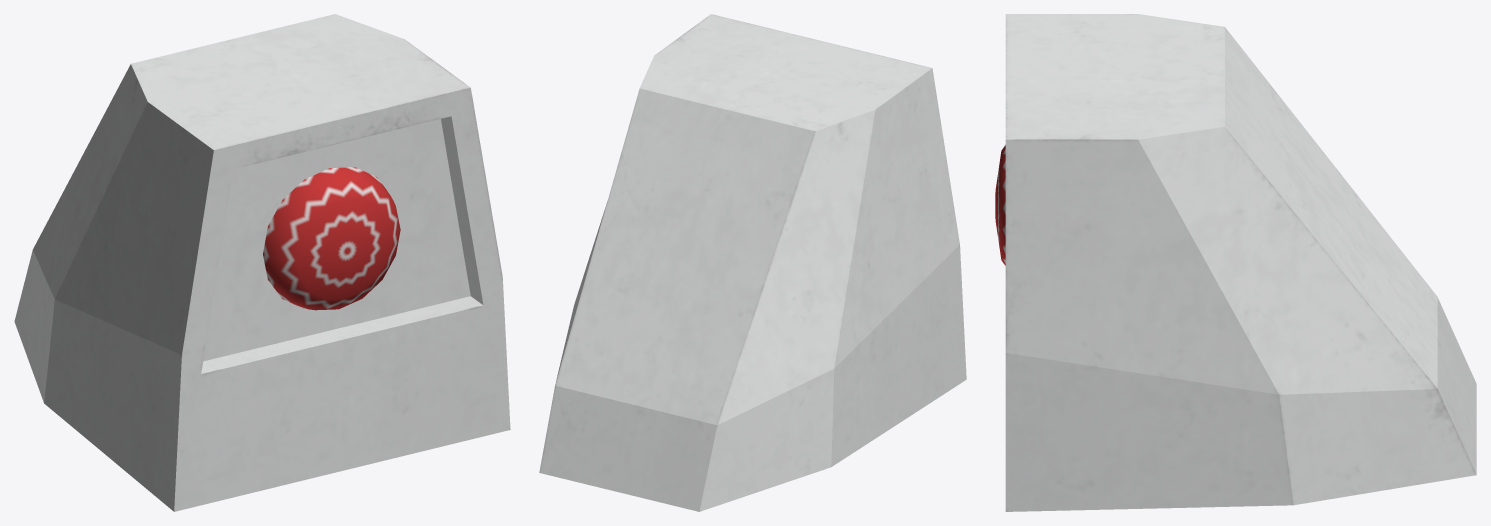
File: Laser.fbx
The picture shows the model from 3 angles, left to right: view 1: azimuth 30°, elevation 25°; view 2: azimuth 150°, elevation 25°; view 3: azimuth 270°, elevation 25°; orthographic projection. The views are drawn at different scales.
Parts seen in each view (by area): view 1: Laser_box, Laser; view 2: Laser_box; view 3: Laser_box, Laser.
Part boxes in pixels (box(x1,y1,x2,y2)): Laser_box: box(14, 14, 510, 511); Laser: box(263, 167, 400, 310); Laser_box: box(539, 14, 966, 511); Laser_box: box(1005, 14, 1476, 511); Laser: box(995, 145, 1005, 265).
Size of the model in its own units: 100 by 100 by 124.
